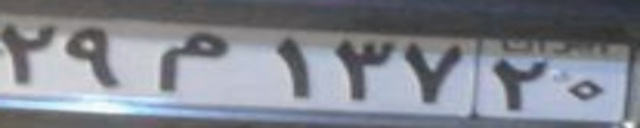0: (564, 78, 604, 103)
1: (269, 38, 312, 99)
2: (491, 56, 549, 111), (2, 23, 52, 84)
3: (331, 38, 394, 101)
7: (403, 41, 462, 104)
9: (63, 27, 120, 89)
mim: (156, 31, 229, 92)
